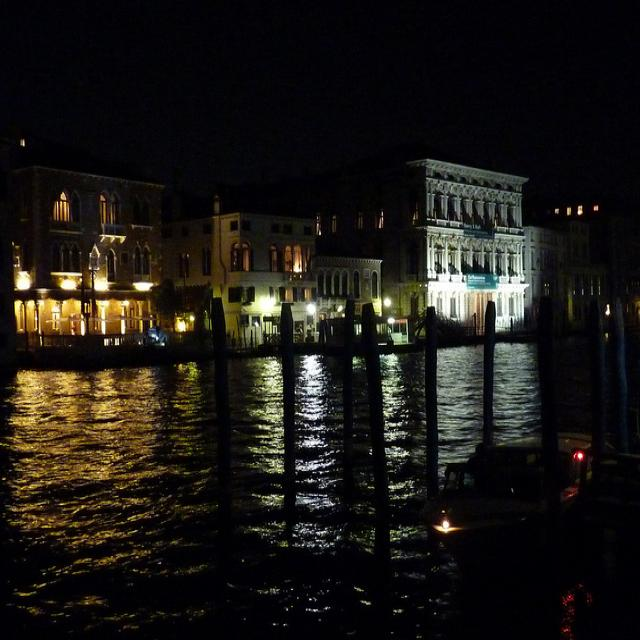Boat: (412, 419, 625, 589)
